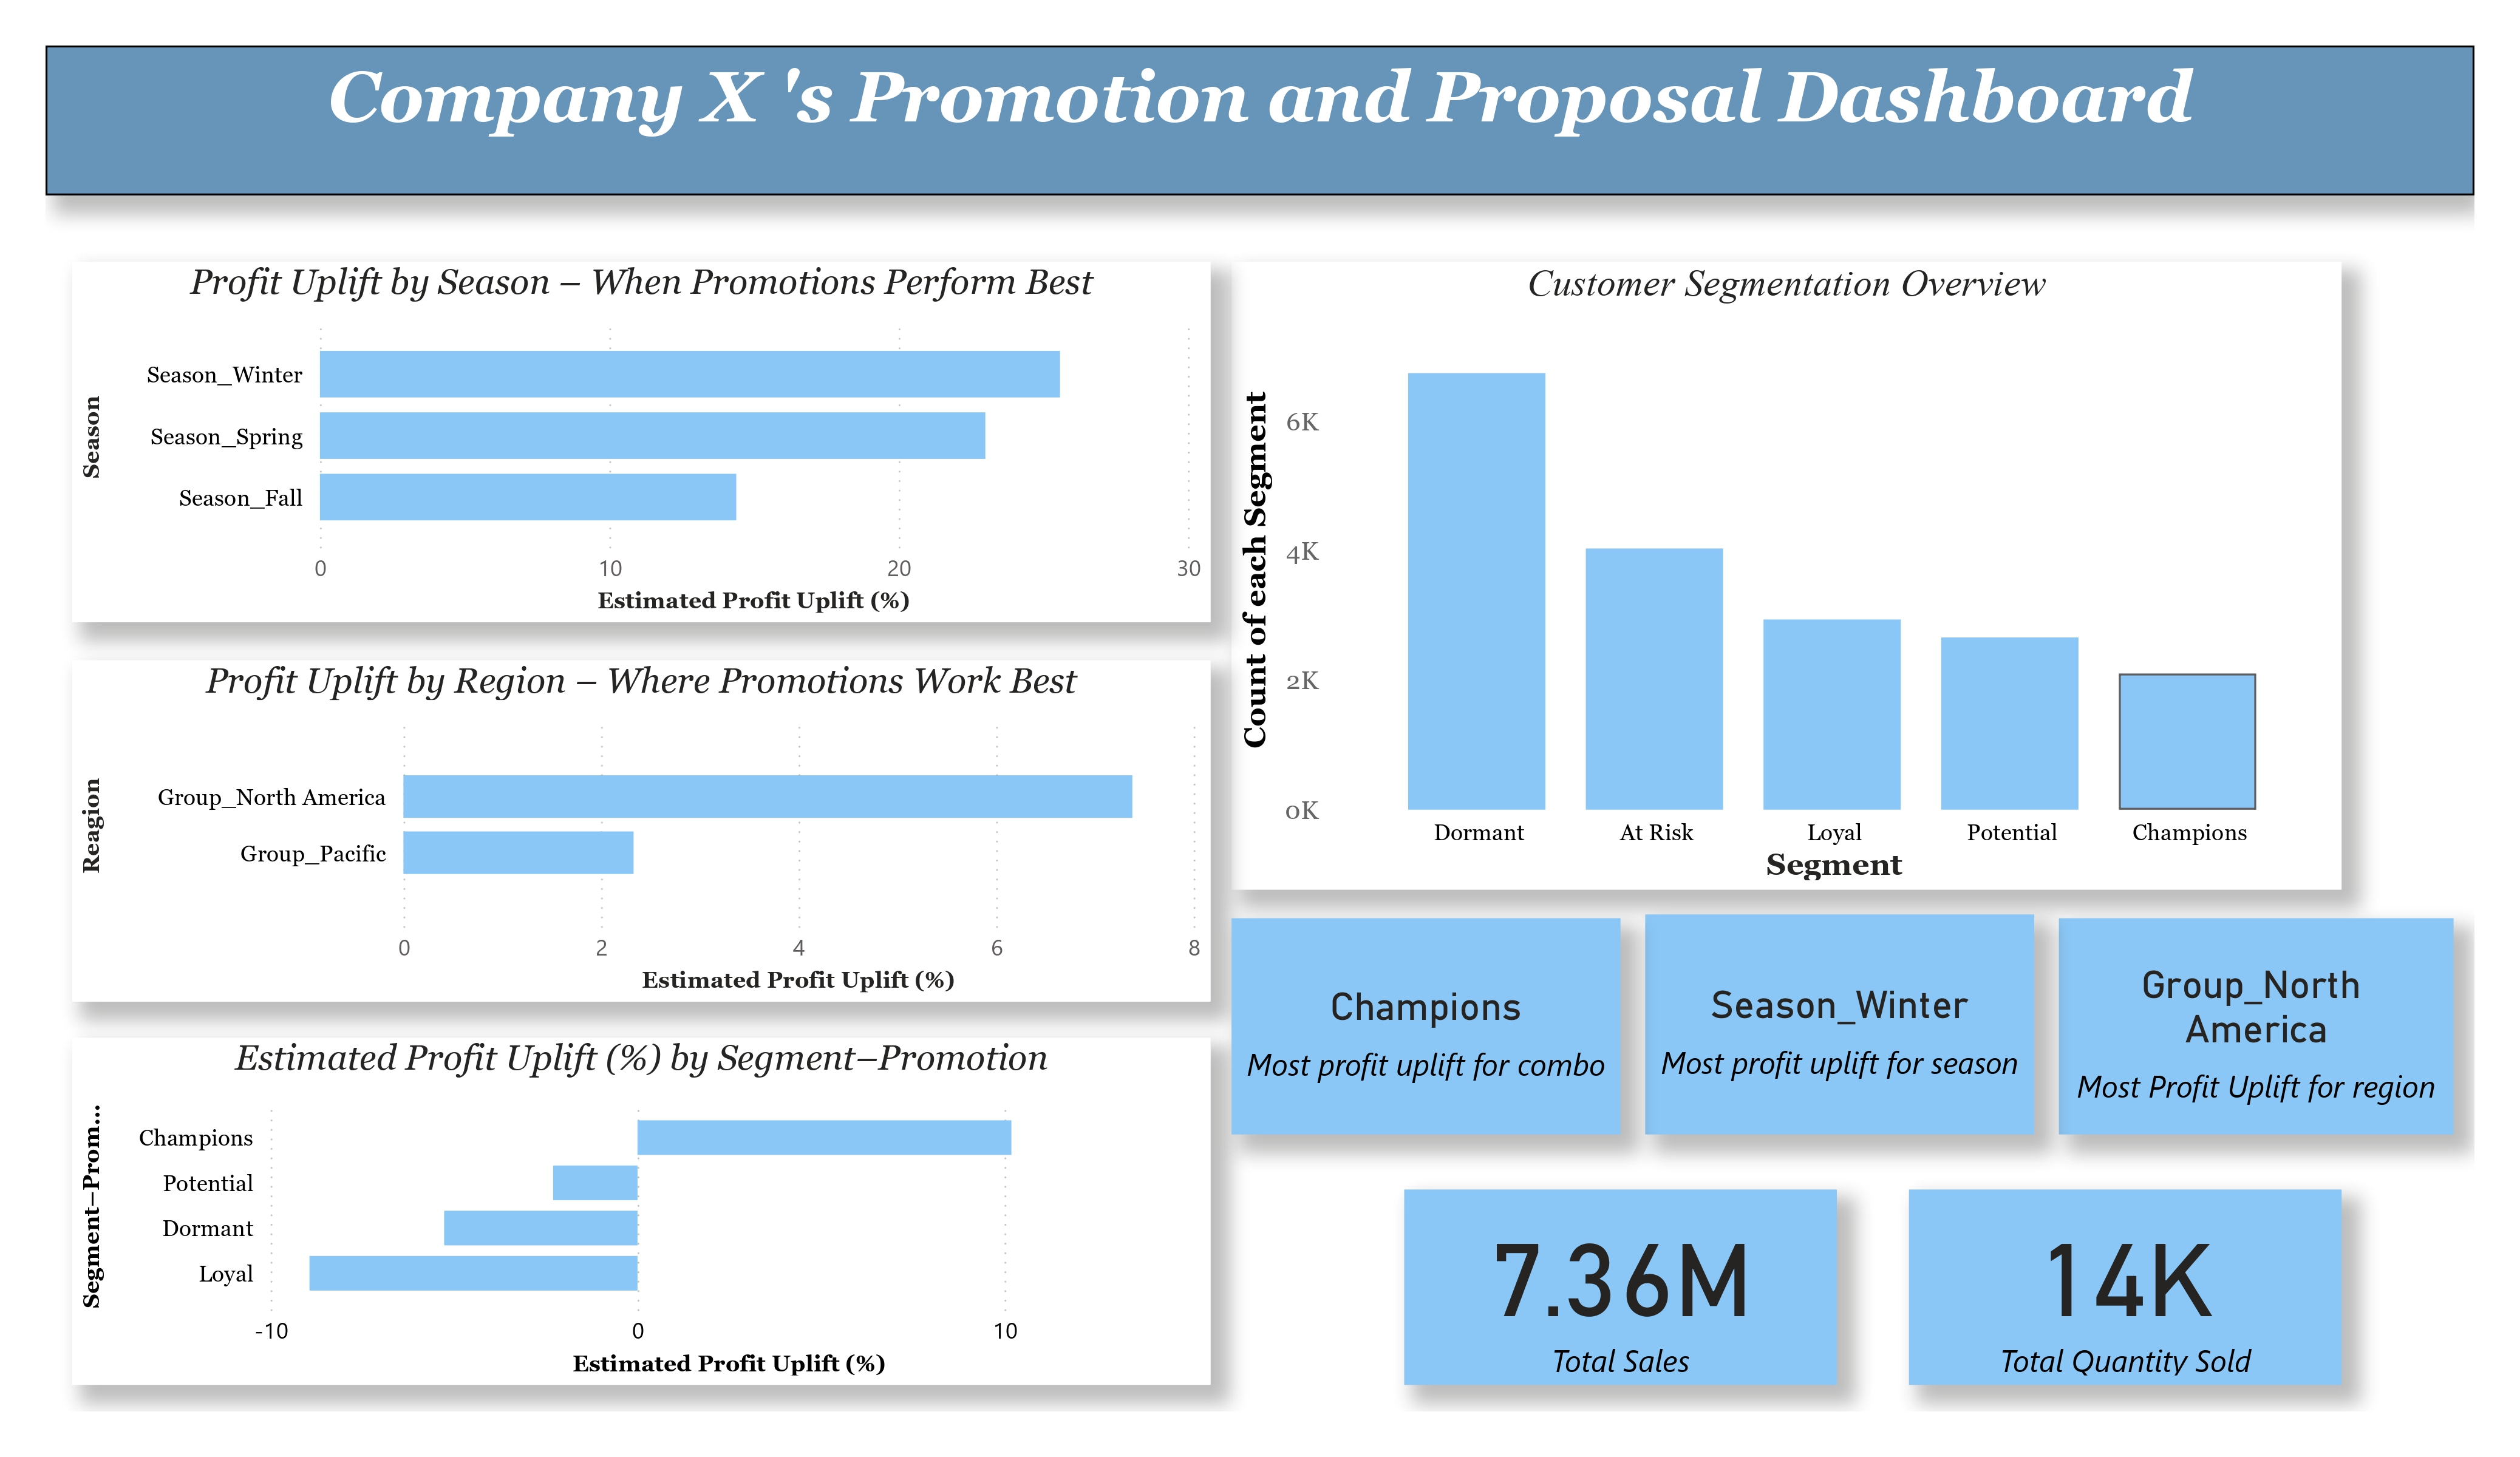

This screenshot's page, from the dashboard's own definition file:
{"tool":"powerbi","page":{"name":"Page 1","canvas":[1280,720],"ordinal":0},"visuals":[{"type":"clusteredColumnChart","title":"Customer Segmentation Overview","fields":{"Y":["CountNonNull(Customer_RFM_Segments.CustomerKey)"],"Category":["Customer_RFM_Segments.Segment"]},"box":[652.3,114,586,330.2],"z":0},{"type":"shape","box":[0,0,1280.3,78.2],"z":1000},{"type":"textbox","box":[0,0,1280,78.8],"z":2000},{"type":"card","fields":{"Values":["FactSales.Total Sales"]},"box":[715.9,603,228.5,103.2],"z":3000},{"type":"card","fields":{"Values":["FactSales.Total Quantity Sold"]},"box":[981.5,603,228.5,103.2],"z":4000},{"type":"barChart","title":"Profit Uplift by Season – When Promotions Perform Best","fields":{"Category":["Promotion_Impact_Season_Group.Feature"],"Y":["Max(Promotion_Impact_Season_Group.Uplift(%))"]},"box":[13.8,114.3,600.2,190],"z":5000},{"type":"barChart","title":"Profit Uplift by Region – Where Promotions Work Best","fields":{"Category":["Promotion_Impact_Season_Group.Feature"],"Y":["Max(Promotion_Impact_Season_Group.Uplift(%))"]},"box":[13.8,323.5,600.2,180.3],"z":6000},{"type":"barChart","fields":{"Category":["Promotion_Segment_Impact (1).Customer Segment"],"Y":["Max(Promotion_Segment_Impact (1).Profit Uplift (%))"]},"box":[13.8,523.1,600.2,183.1],"z":7000},{"type":"card","fields":{"Values":["Min(Promotion_Impact_Season_Group.Feature)"]},"box":[1061.4,459.8,207.9,114.3],"z":8000},{"type":"card","fields":{"Values":["Min(Promotion_Impact_Season_Group.Feature)"]},"box":[842.5,458.4,205.1,115.6],"z":9000},{"type":"card","fields":{"Values":["Min(Promotion_Segment_Impact (1).Customer Segment)"]},"box":[625,459.8,205.1,114.3],"z":10000}]}

Visuals, with their boxes in screenshot pixels (x1, y1, x2, y2):
"Customer Segmentation Overview" clusteredColumnChart: box=[1283, 262, 2396, 888]
shape: box=[46, 46, 2474, 194]
textbox: box=[46, 46, 2474, 195]
card - FactSales.Total Sales: box=[1404, 1189, 1837, 1385]
card - FactSales.Total Quantity Sold: box=[1908, 1189, 2341, 1385]
"Profit Uplift by Season – When Promotions Perform Best" barChart: box=[72, 262, 1211, 623]
"Profit Uplift by Region – Where Promotions Work Best" barChart: box=[72, 659, 1211, 1001]
barChart - Promotion_Segment_Impact (1).Customer Segment x Max(Promotion_Segment_Impact (1).Profit Uplift (%)): box=[72, 1038, 1211, 1385]
card - Min(Promotion_Impact_Season_Group.Feature): box=[2060, 918, 2454, 1135]
card - Min(Promotion_Impact_Season_Group.Feature): box=[1644, 915, 2034, 1135]
card - Min(Promotion_Segment_Impact (1).Customer Segment): box=[1231, 918, 1621, 1135]
